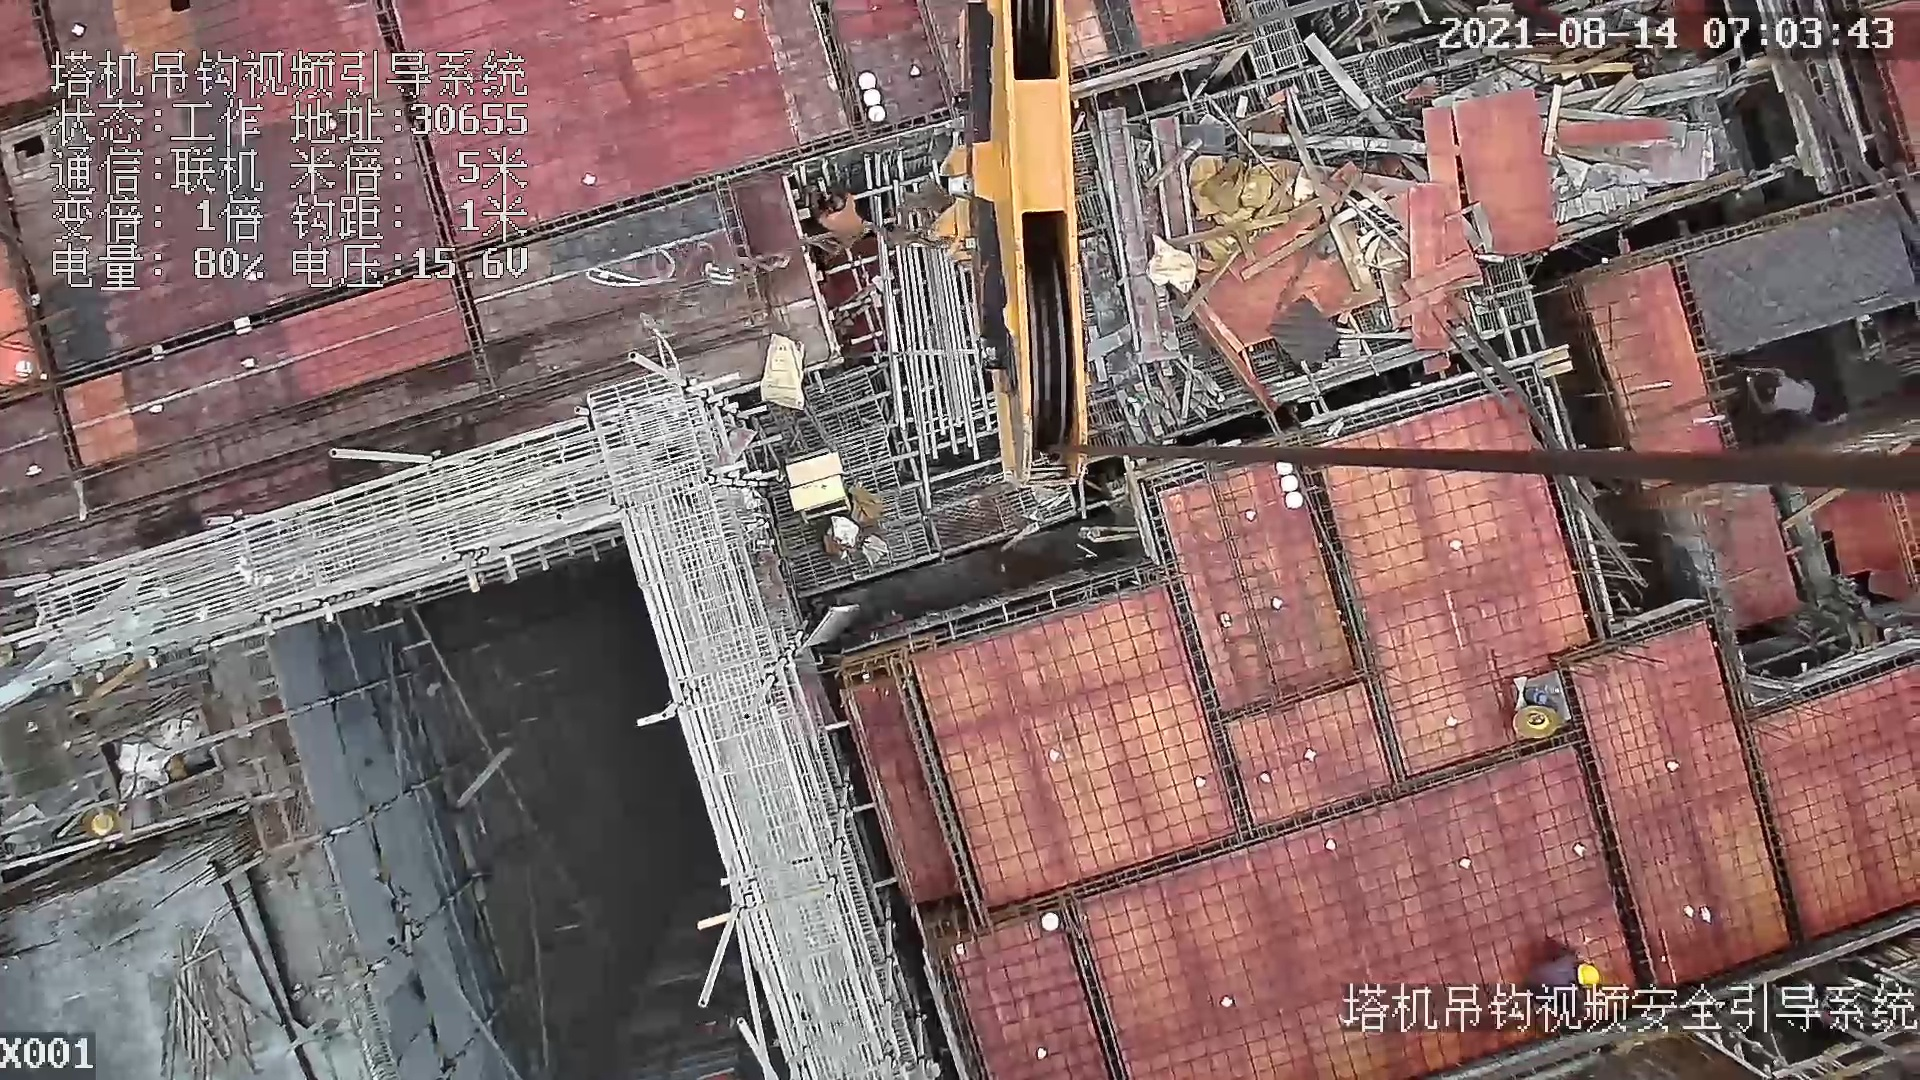helmet: (1575, 962, 1602, 991)
hook: (932, 1, 1091, 496)
person: (1737, 363, 1830, 419), (800, 184, 868, 250), (1522, 952, 1612, 994)
